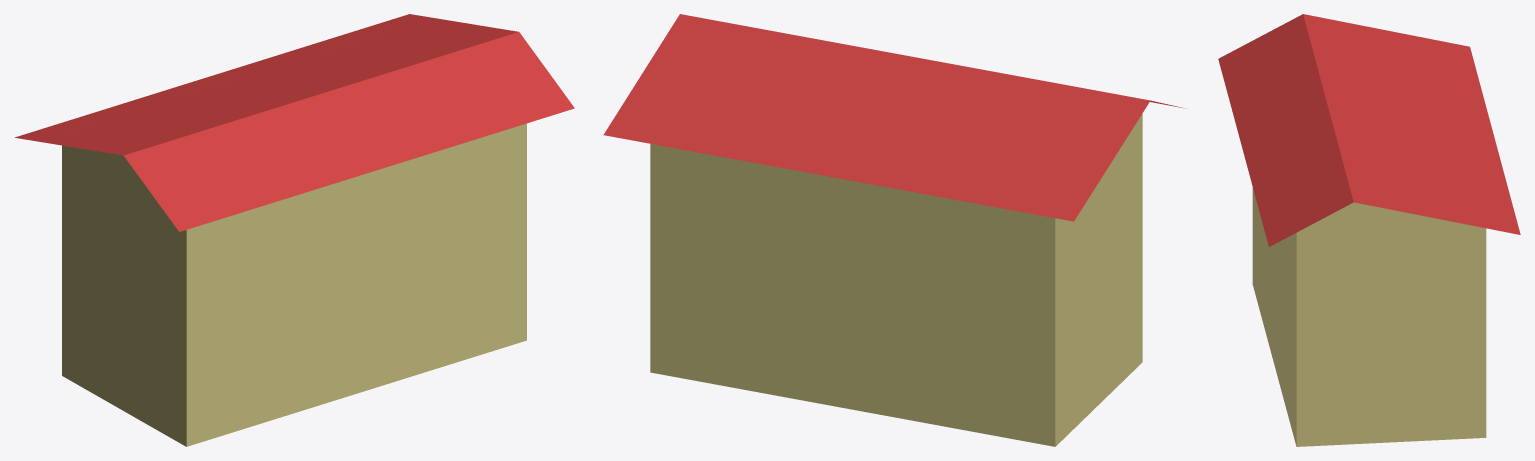
The picture shows the model from 3 angles, left to right: view 1: azimuth 30°, elevation 25°; view 2: azimuth 150°, elevation 25°; view 3: azimuth 270°, elevation 25°; orthographic projection. The views are drawn at different scales.
Size of the model in its own units: 15.18 by 9.68 by 9.
